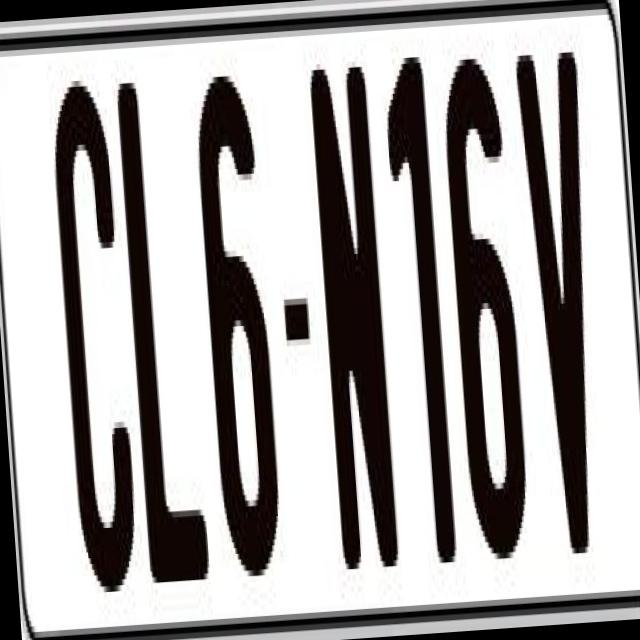1: (378, 45, 459, 588)
6: (188, 74, 290, 589), (436, 45, 527, 549)
C: (44, 79, 136, 594)
L: (114, 79, 217, 618)
N: (308, 48, 405, 575)
V: (512, 34, 614, 555)
